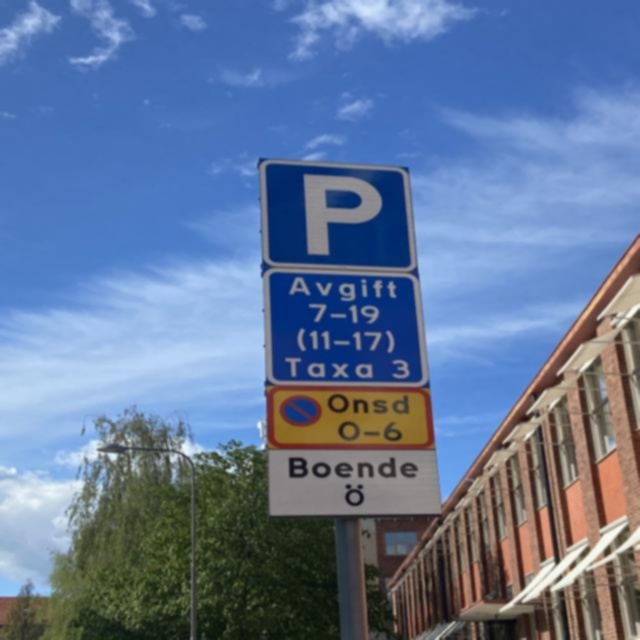P-skylt: (256, 155, 420, 273)
